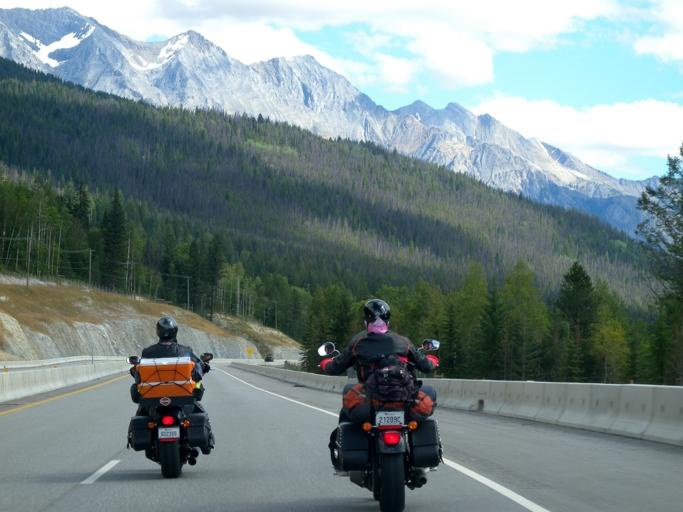non-vehicle: (315, 338, 446, 510), (122, 350, 218, 476)
